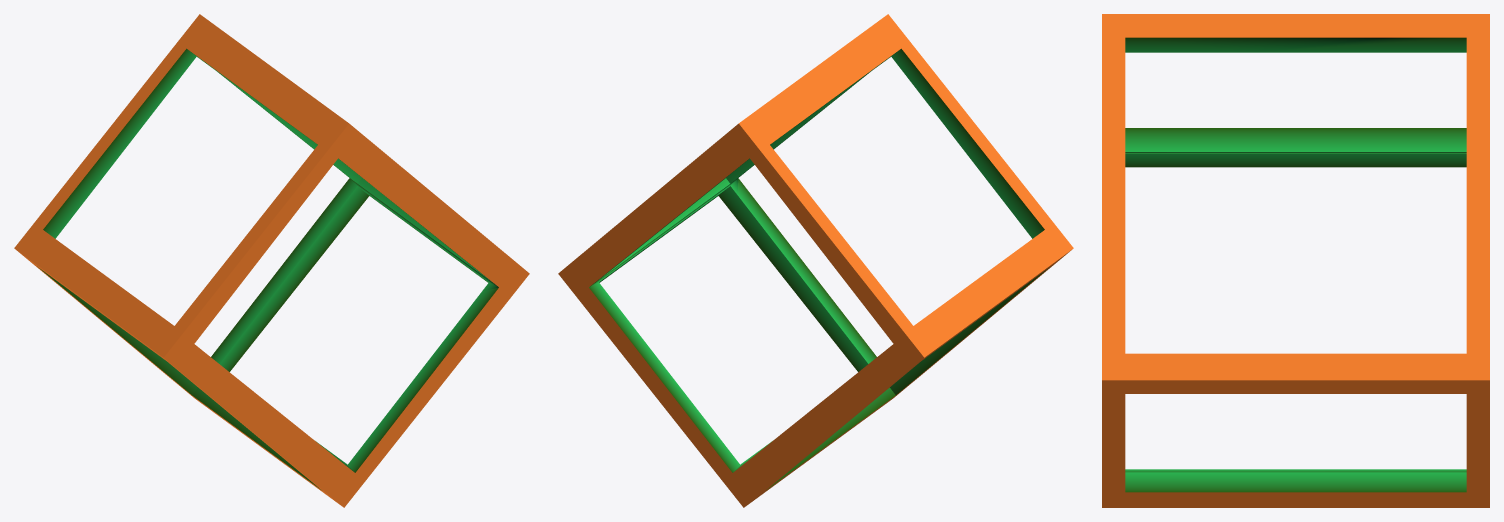
The model's file is cube_gamescene.obj.
3 views of the same model, side by side, from view 1: azimuth 30°, elevation 25°; view 2: azimuth 150°, elevation 25°; view 3: azimuth 270°, elevation 25° (orthographic). The views are drawn at different scales.
Parts seen in each view (by area): view 1: Object.1; view 2: Object.1; view 3: Object.1.
Part boxes in pixels (box(x1,y1,x2,y2)): Object.1: box(14, 14, 529, 507); Object.1: box(558, 14, 1073, 507); Object.1: box(1102, 14, 1489, 507).
Size of the model in its own units: 56.56 by 56.56 by 40.
